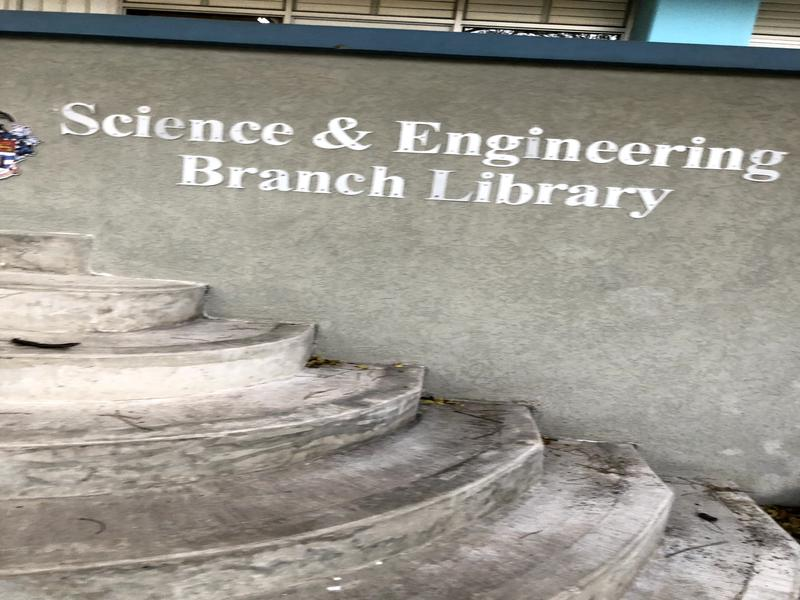18.0053644_-76.7493880_librarysign: (56, 84, 800, 236)
